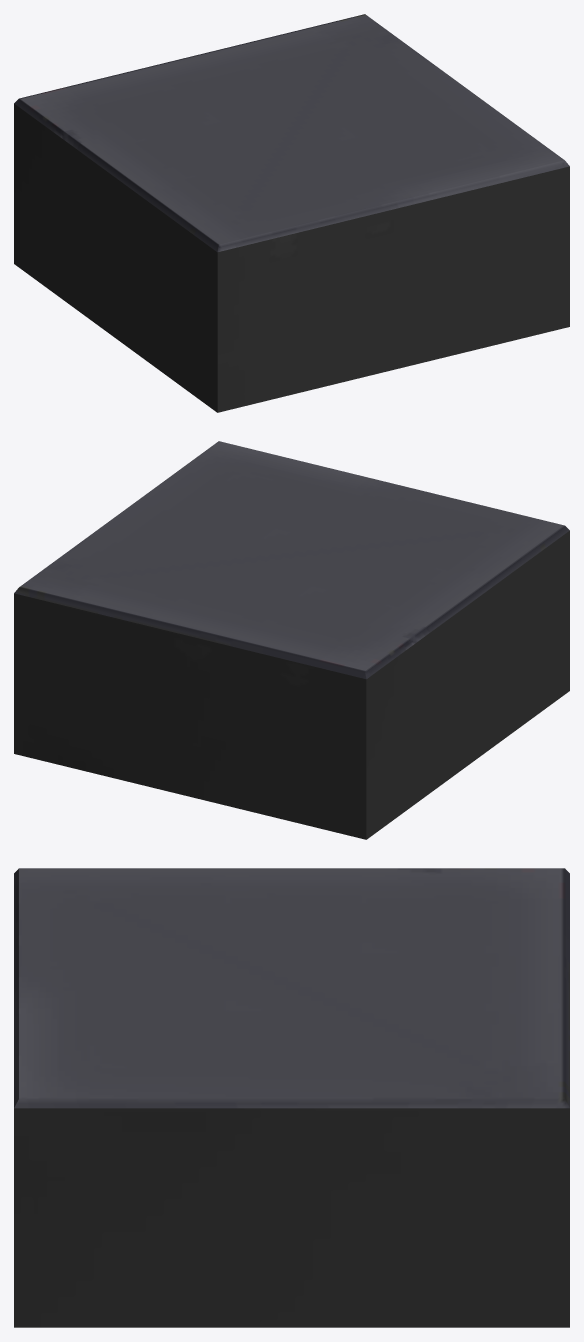
The model's file is highground_0.glb.
3 renders of one model, top to bottom at view 1: azimuth 30°, elevation 25°; view 2: azimuth 150°, elevation 25°; view 3: azimuth 270°, elevation 25°, orthographic. The views are drawn at different scales.
Parts seen in each view (by area): view 1: highground; view 2: highground; view 3: highground.
Part boxes in pixels (x1,y1,x2,y2): highground: (14,14,569,412); highground: (14,441,569,839); highground: (14,868,569,1327).
Size of the model in its own units: 100 by 45 by 100.
Materials: 1 (1 with a texture image).
